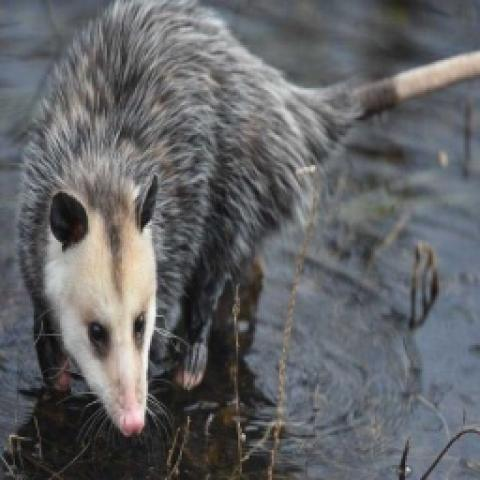small_animal: (17, 0, 349, 437)
